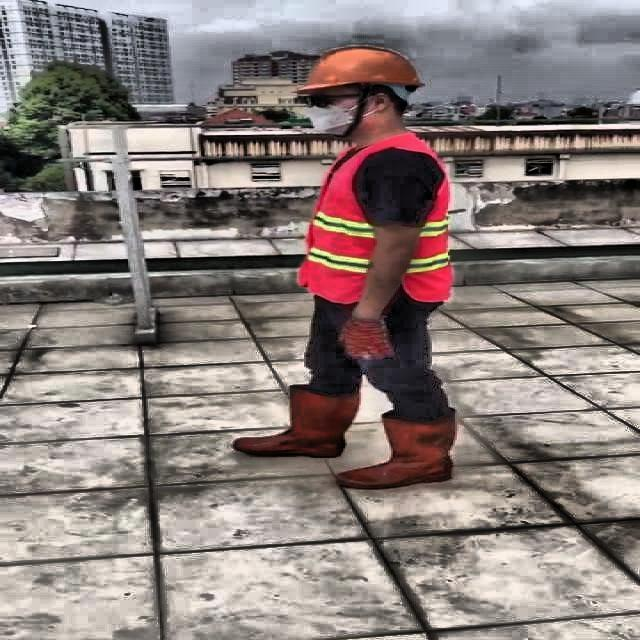safety_helmet: (295, 46, 431, 92)
safety_jacket: (302, 140, 453, 303)
